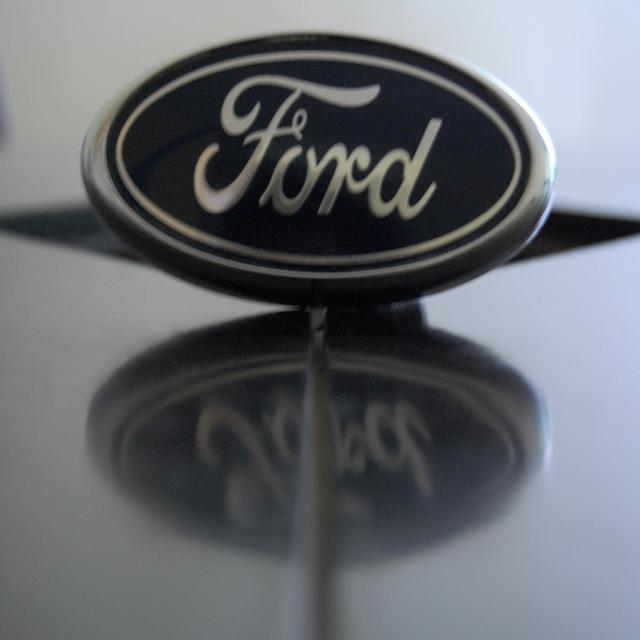ford: (81, 25, 559, 310)
